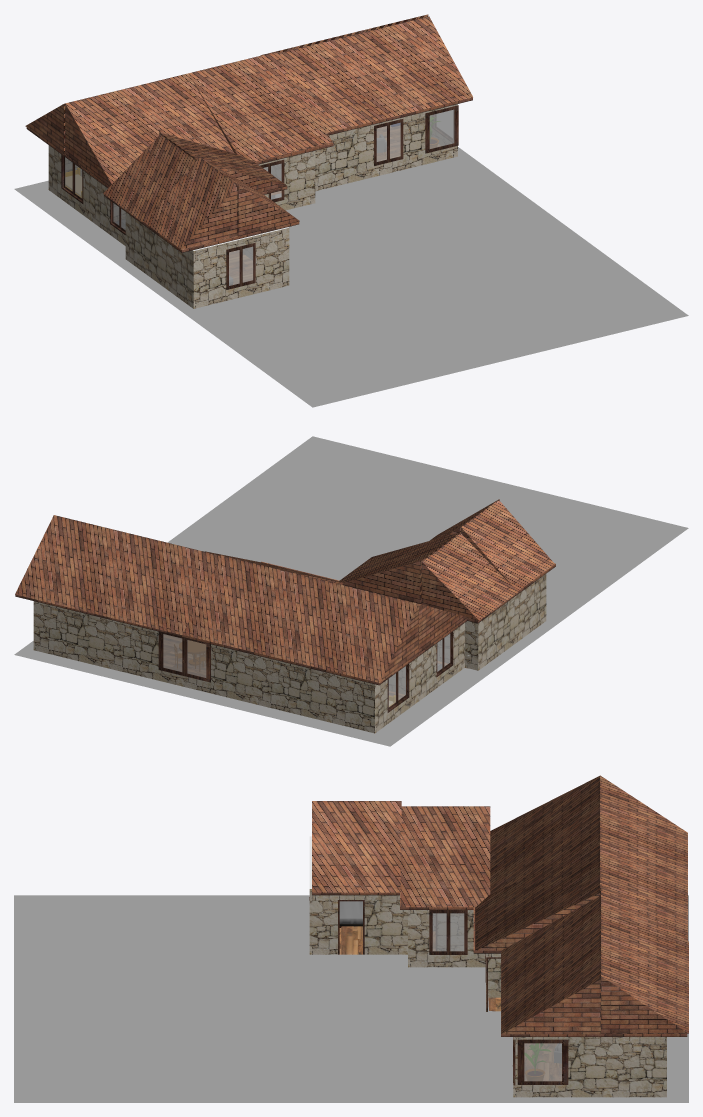
The model's file is casabosque.obj.
3 renders of one model, top to bottom at view 1: azimuth 30°, elevation 25°; view 2: azimuth 150°, elevation 25°; view 3: azimuth 270°, elevation 25°, orthographic. The views are drawn at different scales.
Parts seen in each view (by area): view 1: ground_1, slope_560, slope_575, slope_570, wall_10_59, wall_4_23, slope_595, slope_585, wall_3_17, wall_1_5, room_29_153, wall_8_47 (+7 smaller); view 2: ground_1, slope_565, wall_12_71, slope_555, slope_595, slope_585, wall_3_17, wall_1_5, back_582, room_29_153, slope_580, front_588 (+6 smaller); view 3: ground_1, slope_565, slope_580, slope_560, slope_590, slope_555, slope_570, wall_11_65, slope_575, wall_5_29, back_562, front_558 (+11 smaller).
Boxes of the visible parts, x1=… form: ground_1: x1=14, y1=147, x2=688, y2=407; slope_560: x1=279, y1=16, x2=472, y2=132; slope_575: x1=188, y1=51, x2=332, y2=161; slope_570: x1=65, y1=73, x2=233, y2=183; wall_10_59: x1=315, y1=104, x2=457, y2=191; wall_4_23: x1=193, y1=228, x2=289, y2=308; slope_595: x1=143, y1=157, x2=236, y2=248; slope_585: x1=103, y1=134, x2=196, y2=221; wall_3_17: x1=125, y1=212, x2=193, y2=308; wall_1_5: x1=48, y1=145, x2=125, y2=245; room_29_153: x1=26, y1=97, x2=472, y2=252; wall_8_47: x1=258, y1=150, x2=315, y2=210; ground_1: x1=14, y1=436, x2=688, y2=746; slope_565: x1=182, y1=555, x2=418, y2=682; wall_12_71: x1=33, y1=601, x2=374, y2=733; slope_555: x1=15, y1=515, x2=220, y2=634; slope_595: x1=461, y1=499, x2=554, y2=591; slope_585: x1=422, y1=533, x2=517, y2=620; wall_3_17: x1=478, y1=574, x2=546, y2=670; wall_1_5: x1=375, y1=623, x2=464, y2=732; back_582: x1=343, y1=561, x2=420, y2=603; room_29_153: x1=15, y1=561, x2=555, y2=685; slope_580: x1=339, y1=533, x2=458, y2=582; front_588: x1=421, y1=562, x2=478, y2=620; ground_1: x1=14, y1=895, x2=688, y2=1102; slope_565: x1=600, y1=775, x2=687, y2=940; slope_580: x1=400, y1=806, x2=490, y2=907; slope_560: x1=501, y1=888, x2=600, y2=1033; slope_590: x1=312, y1=801, x2=401, y2=892; slope_555: x1=601, y1=884, x2=688, y2=1033; slope_570: x1=490, y1=776, x2=599, y2=894; wall_11_65: x1=513, y1=1037, x2=666, y2=1097; slope_575: x1=475, y1=844, x2=599, y2=950; wall_5_29: x1=309, y1=889, x2=407, y2=954; back_562: x1=502, y1=979, x2=600, y2=1034; front_558: x1=601, y1=976, x2=688, y2=1033.
Bounding box in the file's own units: 1701 × 482 × 2338.
